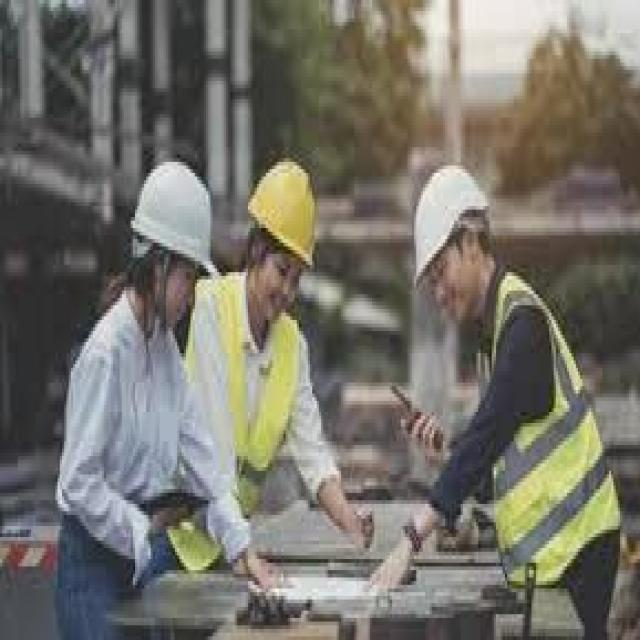reflective_jacket: (469, 261, 628, 599), (192, 279, 325, 537)
safety_helmet: (119, 147, 221, 287), (396, 147, 495, 290), (239, 147, 332, 279)
